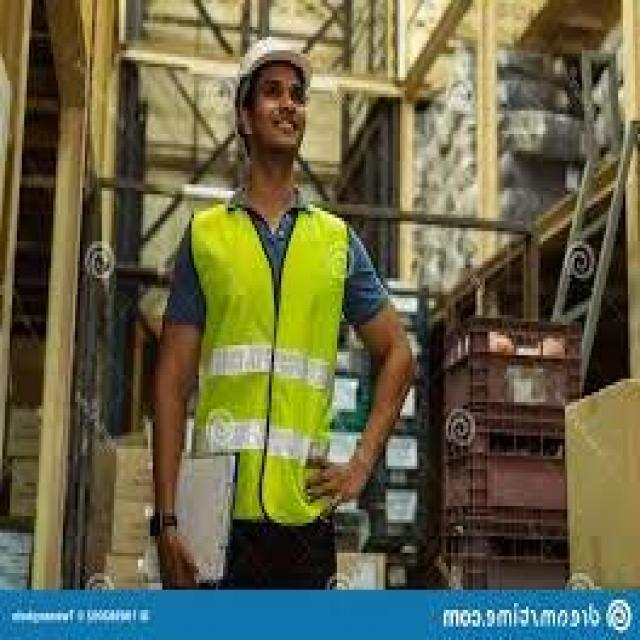Reflective-Jacket: (177, 191, 361, 539)
Safety-Helmet: (225, 30, 322, 101)
